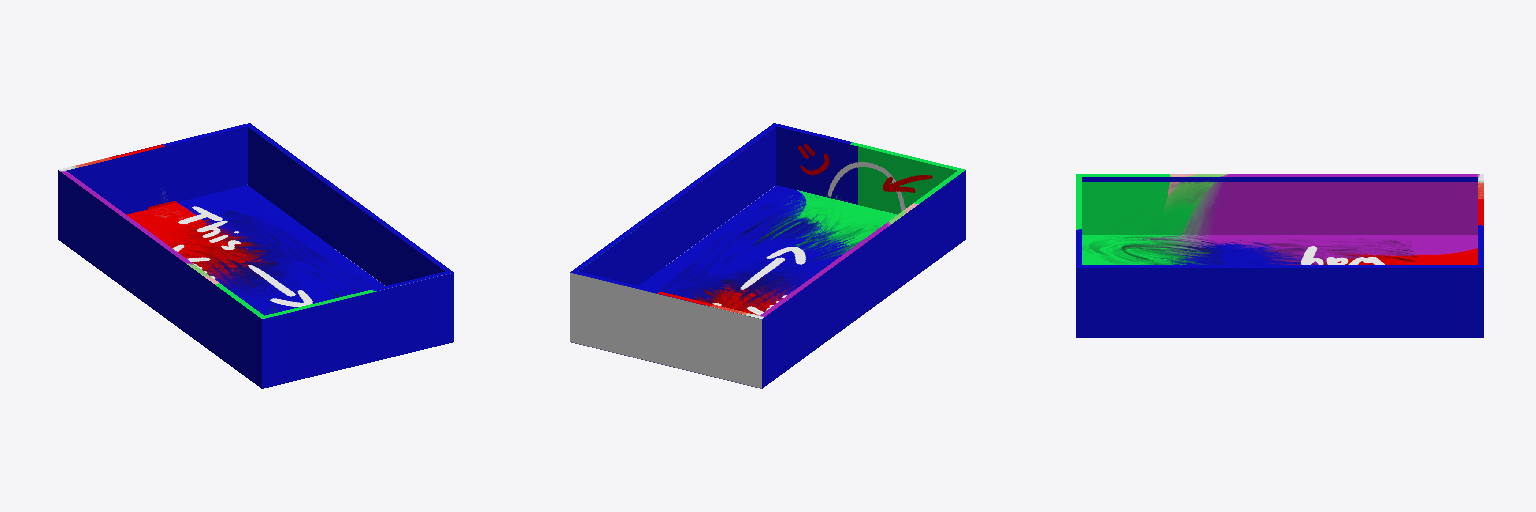
The picture shows the model from 3 angles: view 1: azimuth 30°, elevation 25°; view 2: azimuth 150°, elevation 25°; view 3: azimuth 270°, elevation 25°; orthographic projection.
Parts seen in each view (by area): view 1: newuntiscale_Material.001; view 2: newuntiscale_Material.001; view 3: newuntiscale_Material.001.
Part boxes in pixels (x1,y1,x2,y2): newuntiscale_Material.001: (58, 123, 453, 388); newuntiscale_Material.001: (570, 123, 965, 388); newuntiscale_Material.001: (1076, 174, 1483, 337).
Bounding box in the file's own units: 5.76 × 2 × 10.6.
Materials: 1 (1 with a texture image).